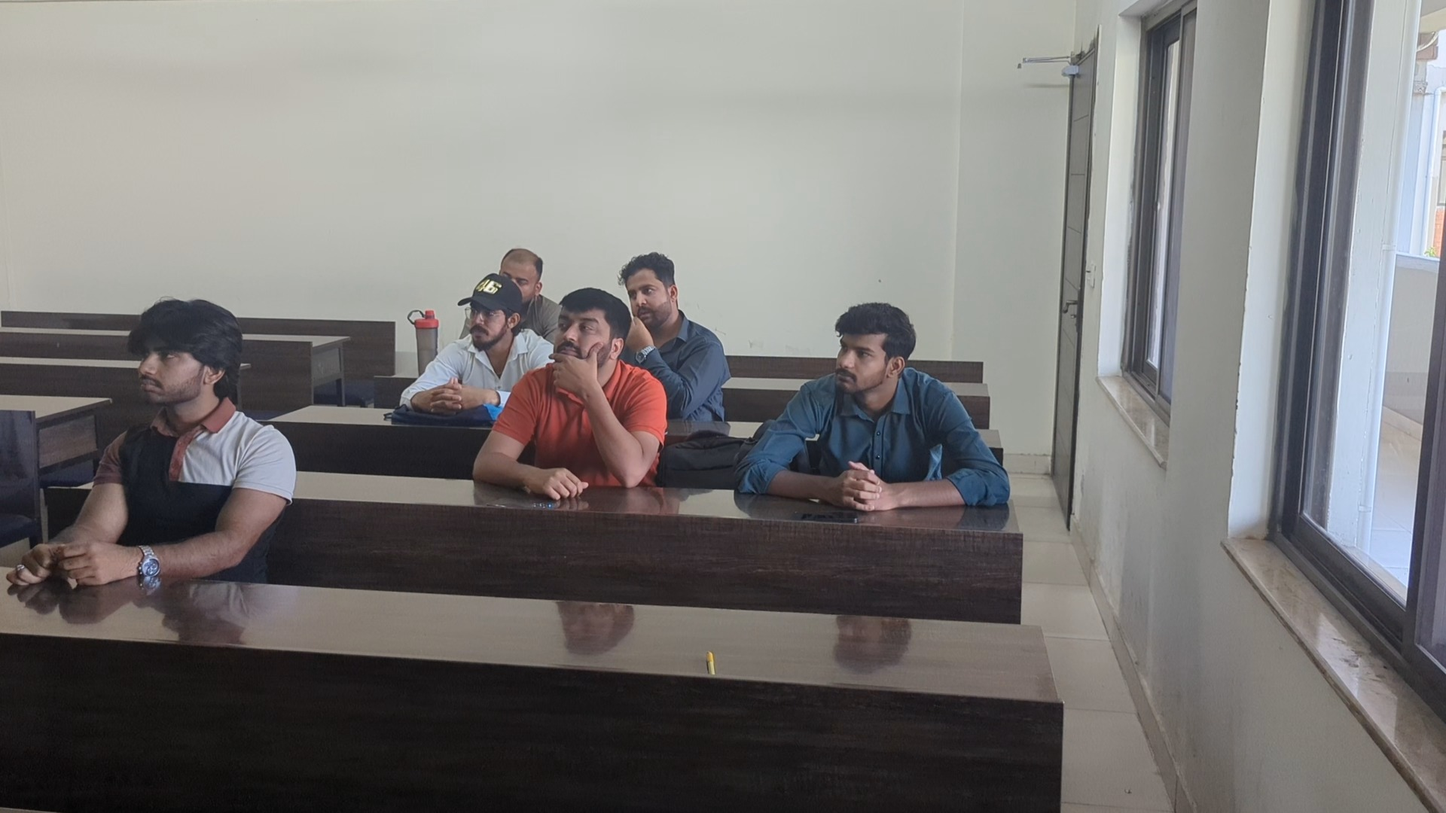look_forward: (80, 280, 282, 546), (796, 311, 949, 505), (537, 297, 656, 470), (607, 229, 737, 385), (445, 278, 509, 399), (498, 238, 555, 308)
